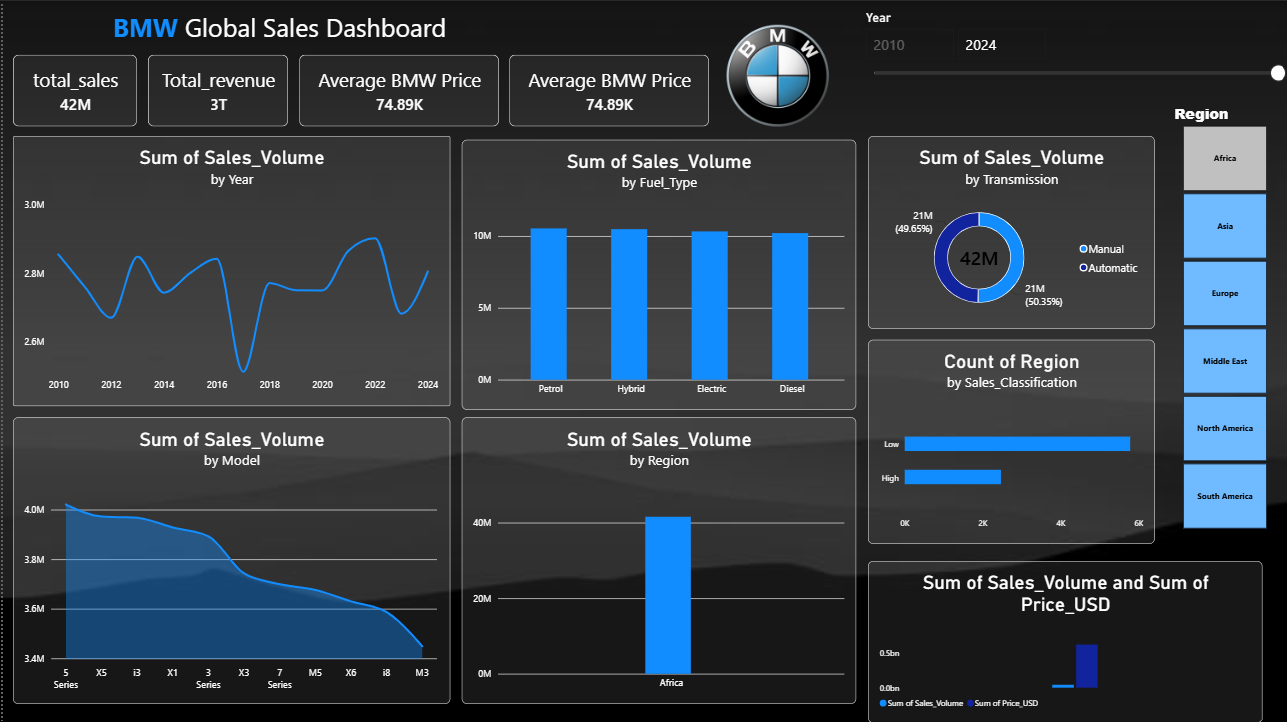

Layout of this report page (visuals, bound fields, positions):
{"tool":"powerbi","page":{"name":"Page 1","canvas":[1920,1080],"ordinal":0},"visuals":[{"type":"lineChart","fields":{"Category":["BMW sales data (2010-2024).Year"],"Y":["Sum(BMW sales data (2010-2024).Sales_Volume)"]},"box":[14.4,201.7,652.5,403.4],"z":0},{"type":"areaChart","fields":{"Category":["BMW sales data (2010-2024).Model"],"Y":["Sum(BMW sales data (2010-2024).Sales_Volume)"]},"box":[14.4,621.6,652.5,428.1],"z":1000},{"type":"cardVisual","fields":{"Data":["BMW sales data (2010-2024).total_sales"]},"box":[14.4,80.3,185.2,107],"z":2000},{"type":"cardVisual","fields":{"Data":["BMW sales data (2010-2024).Total_revenue_Value"]},"box":[216.1,80.3,209.9,107],"z":3000},{"type":"cardVisual","fields":{"Data":["BMW sales data (2010-2024).Average BMW Price"]},"box":[442.5,80.3,298.5,107],"z":4000},{"type":"cardVisual","fields":{"Data":["BMW sales data (2010-2024).Average BMW Price"]},"box":[755.4,80.3,298.5,107],"z":5000},{"type":"clusteredColumnChart","fields":{"Category":["BMW sales data (2010-2024).Fuel_Type"],"Y":["Sum(BMW sales data (2010-2024).Sales_Volume)"]},"box":[685.4,207.9,588.7,403.4],"z":6000},{"type":"donutChart","fields":{"Category":["BMW sales data (2010-2024).Transmission"],"Y":["Sum(BMW sales data (2010-2024).Sales_Volume)"]},"box":[1290.6,201.7,428.1,288.2],"z":7000},{"type":"barChart","fields":{"Category":["BMW sales data (2010-2024).Sales_Classification"],"Y":["CountNonNull(BMW sales data (2010-2024).Region)"]},"box":[1290.6,506.3,428.1,304.6],"z":8000},{"type":"clusteredColumnChart","fields":{"Y":["Sum(BMW sales data (2010-2024).Sales_Volume)","Sum(BMW sales data (2010-2024).Price_USD)"]},"box":[1290.6,835.7,588.7,242.9],"z":9000},{"type":"image","box":[1039.5,35,234.6,152.3],"z":10000},{"type":"slicer","fields":{"Values":["BMW sales data (2010-2024).Year"]},"box":[1280.3,12.3,640.1,156.4],"z":11000},{"type":"textbox","box":[18.5,12.3,788.3,74.1],"z":13000},{"type":"clusteredColumnChart","fields":{"Category":["BMW sales data (2010-2024).Region"],"Y":["Sum(BMW sales data (2010-2024).Sales_Volume)"]},"box":[685.4,621.6,588.7,428.1],"z":14000},{"type":"slicer","fields":{"Values":["BMW sales data (2010-2024).Region"]},"box":[1741.3,152.3,164.7,636],"z":14001}]}

Visuals, with their boxes in screenshot pixels (x1, y1, x2, y2), scaled from the page's 1920x1080 canvas onto the 1287x722 screenshot:
lineChart - BMW sales data (2010-2024).Year x Sum(BMW sales data (2010-2024).Sales_Volume): (10, 135, 447, 405)
areaChart - BMW sales data (2010-2024).Model x Sum(BMW sales data (2010-2024).Sales_Volume): (10, 416, 447, 702)
cardVisual - BMW sales data (2010-2024).total_sales: (10, 54, 134, 125)
cardVisual - BMW sales data (2010-2024).Total_revenue_Value: (145, 54, 286, 125)
cardVisual - BMW sales data (2010-2024).Average BMW Price: (297, 54, 497, 125)
cardVisual - BMW sales data (2010-2024).Average BMW Price: (506, 54, 706, 125)
clusteredColumnChart - BMW sales data (2010-2024).Fuel_Type x Sum(BMW sales data (2010-2024).Sales_Volume): (459, 139, 854, 409)
donutChart - BMW sales data (2010-2024).Transmission x Sum(BMW sales data (2010-2024).Sales_Volume): (865, 135, 1152, 328)
barChart - BMW sales data (2010-2024).Sales_Classification x CountNonNull(BMW sales data (2010-2024).Region): (865, 338, 1152, 542)
clusteredColumnChart - Sum(BMW sales data (2010-2024).Sales_Volume) x Sum(BMW sales data (2010-2024).Price_USD): (865, 559, 1260, 721)
image: (697, 23, 854, 125)
slicer - BMW sales data (2010-2024).Year: (858, 8, 1286, 113)
textbox: (12, 8, 541, 58)
clusteredColumnChart - BMW sales data (2010-2024).Region x Sum(BMW sales data (2010-2024).Sales_Volume): (459, 416, 854, 702)
slicer - BMW sales data (2010-2024).Region: (1167, 102, 1278, 527)
